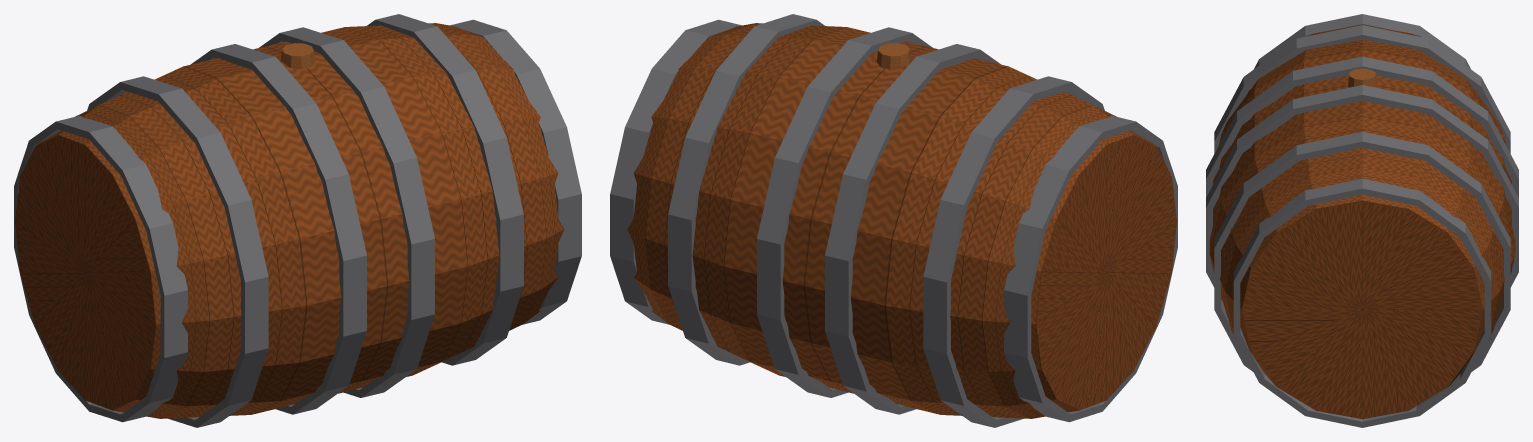
File: distillery-and-bonded-warehouse-cask-butt-907e5e4e__38688.glb
The picture shows the model from 3 angles, left to right: view 1: azimuth 30°, elevation 25°; view 2: azimuth 150°, elevation 25°; view 3: azimuth 270°, elevation 25°; orthographic projection. The views are drawn at different scales.
Parts seen in each view (by area): view 1: cask-butt-oak, cask-butt-iron, cask-butt-timber; view 2: cask-butt-oak, cask-butt-iron, cask-butt-timber; view 3: cask-butt-oak, cask-butt-iron, cask-butt-timber.
Boxes of the visible parts, box(x1,y1,x2,y2) form: cask-butt-oak: box(15, 23, 564, 418); cask-butt-iron: box(14, 14, 581, 427); cask-butt-timber: box(280, 43, 315, 69); cask-butt-oak: box(627, 23, 1176, 418); cask-butt-iron: box(610, 14, 1177, 427); cask-butt-timber: box(876, 43, 911, 69); cask-butt-oak: box(1209, 24, 1515, 419); cask-butt-iron: box(1206, 14, 1518, 427); cask-butt-timber: box(1348, 68, 1376, 87).
Size of the model in its own units: 1.35 by 1.03 by 1.
Materials: 3 (2 with a texture image).
